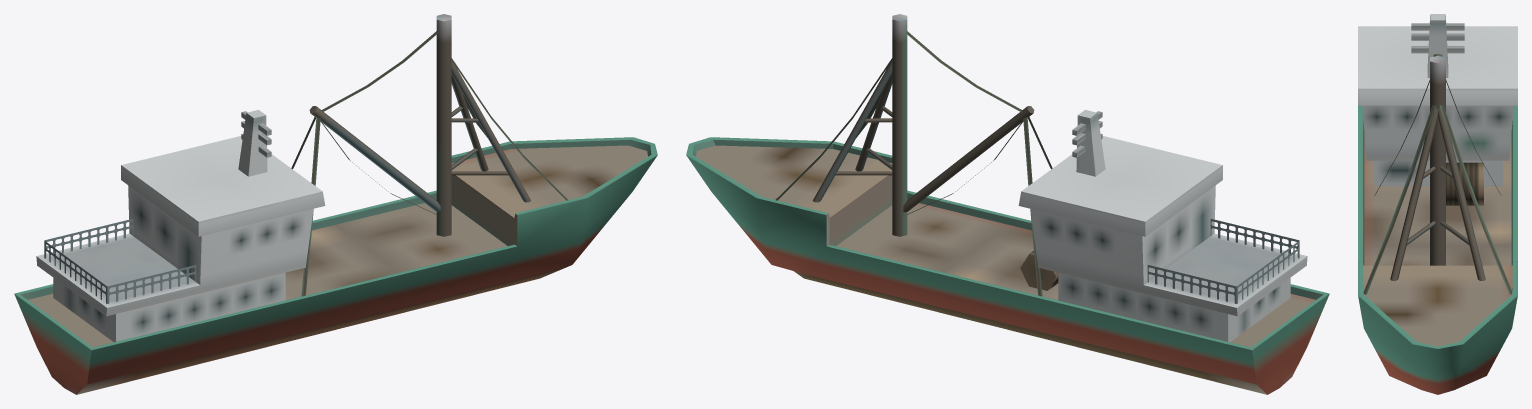
File: Coach_Building_Hooker_L3_03_Mod.fbx
The picture shows the model from 3 angles, left to right: view 1: azimuth 30°, elevation 25°; view 2: azimuth 150°, elevation 25°; view 3: azimuth 270°, elevation 25°; orthographic projection. The views are drawn at different scales.
Visible parts, largest first — view 1: Coach_Building_Hooker_L3_03_Mod; view 2: Coach_Building_Hooker_L3_03_Mod; view 3: Coach_Building_Hooker_L3_03_Mod.
Part boxes in pixels (x1,y1,x2,y2): Coach_Building_Hooker_L3_03_Mod: (14, 14, 657, 394); Coach_Building_Hooker_L3_03_Mod: (686, 14, 1329, 394); Coach_Building_Hooker_L3_03_Mod: (1358, 14, 1517, 394).
Bounding box in the file's own units: 2066 × 910 × 460.
